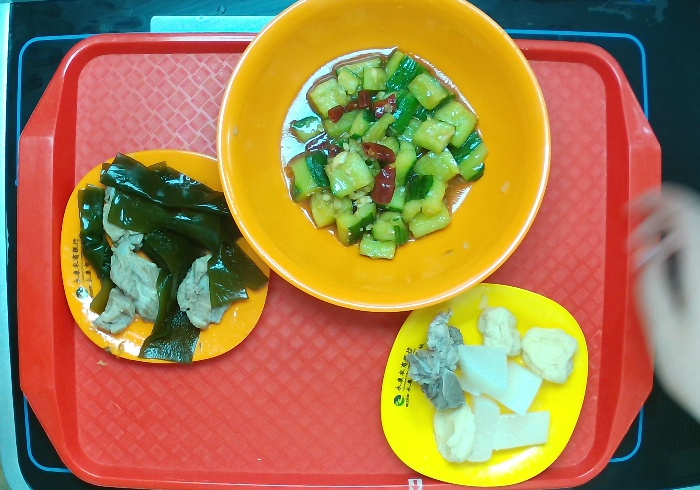YKMZ-Huang_Se_Fang_Die: (378, 280, 590, 490)
YKMZ-Ju_Se_Fang_Die: (58, 147, 272, 367)
YKMZ-Ju_Se_Tang_Wan: (218, 1, 552, 314)
